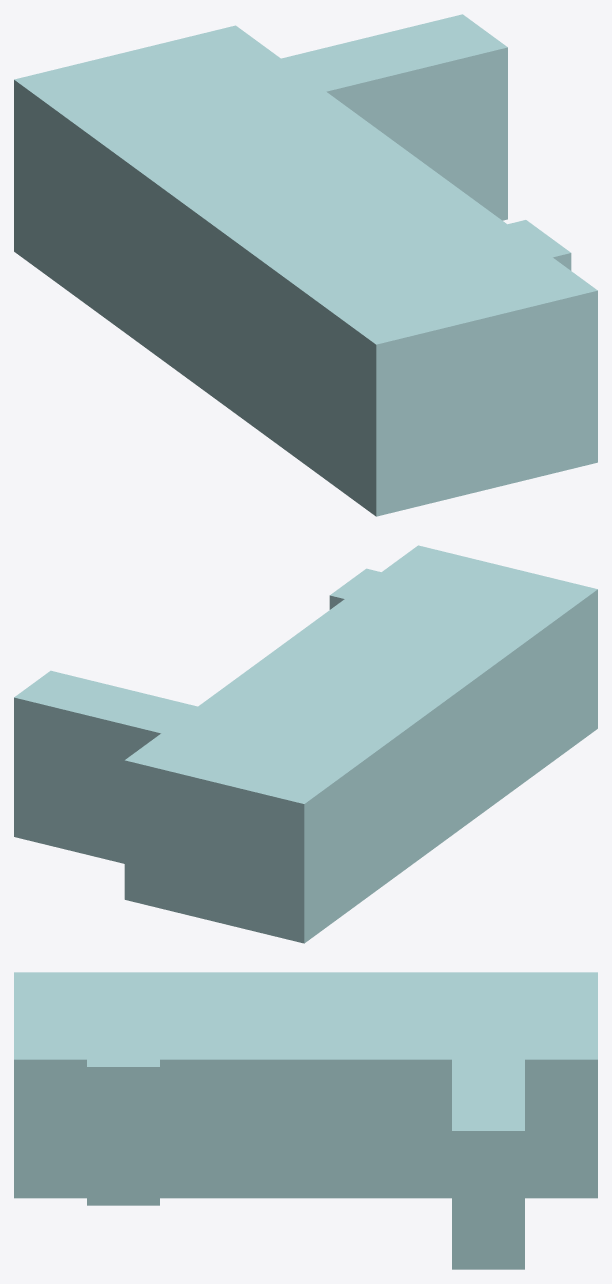
The model's file is placeholderbld.fbx.
The picture shows the model from 3 angles, top to bottom: view 1: azimuth 30°, elevation 25°; view 2: azimuth 150°, elevation 25°; view 3: azimuth 270°, elevation 25°; orthographic projection. The views are drawn at different scales.
Parts seen in each view (by area): view 1: Placeholderbld01; view 2: Placeholderbld01; view 3: Placeholderbld01.
Boxes of the visible parts, box(x1,y1,x2,y2) form: Placeholderbld01: box(14, 14, 597, 516); Placeholderbld01: box(14, 545, 597, 943); Placeholderbld01: box(14, 972, 597, 1269).
Bounding box in the file's own units: 3639 × 1482 × 5658.
